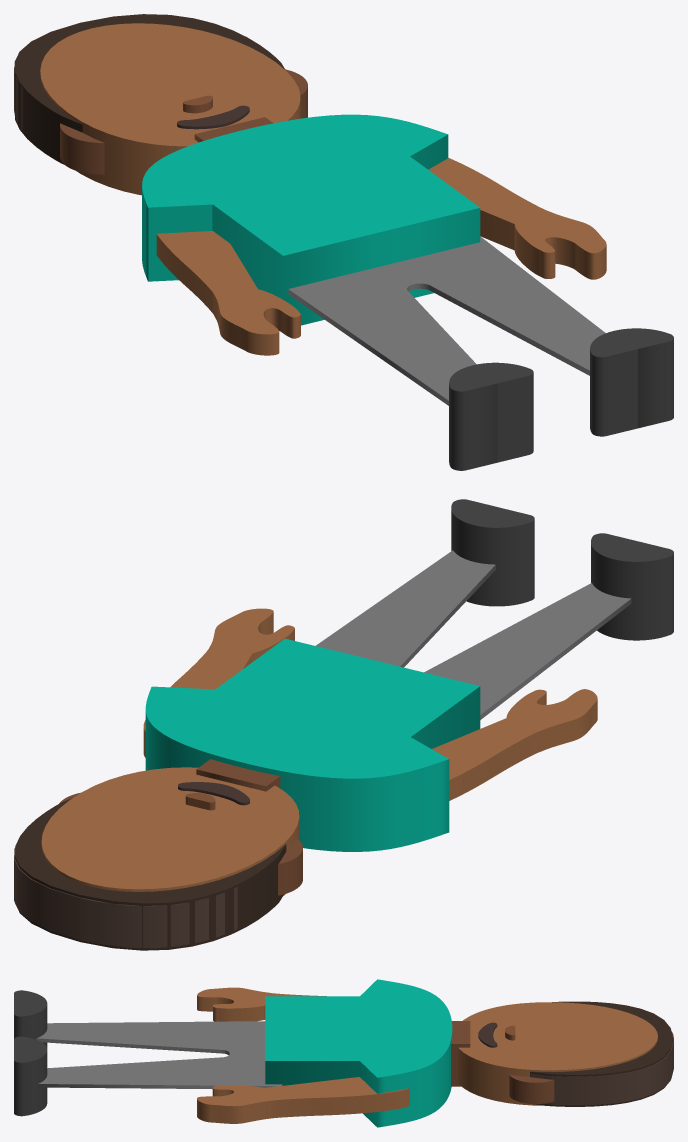
File: emoji_u1f9cd_1f3fe_200d_2642.glb
The picture shows the model from 3 angles, top to bottom: view 1: azimuth 30°, elevation 25°; view 2: azimuth 150°, elevation 25°; view 3: azimuth 270°, elevation 25°; orthographic projection. The views are drawn at different scales.
Visible parts, largest first — view 1: emoji_u1f9cd_1f3fe_200d_2642; view 2: emoji_u1f9cd_1f3fe_200d_2642; view 3: emoji_u1f9cd_1f3fe_200d_2642.
Boxes of the visible parts, bbox=[...] form: emoji_u1f9cd_1f3fe_200d_2642: bbox=[14, 14, 673, 470]; emoji_u1f9cd_1f3fe_200d_2642: bbox=[14, 499, 673, 950]; emoji_u1f9cd_1f3fe_200d_2642: bbox=[14, 979, 673, 1127].
Bounding box in the file's own units: 0.0145 × 0.003 × 0.0336.
